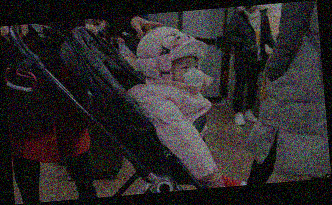with_mask: (173, 56, 204, 95)
